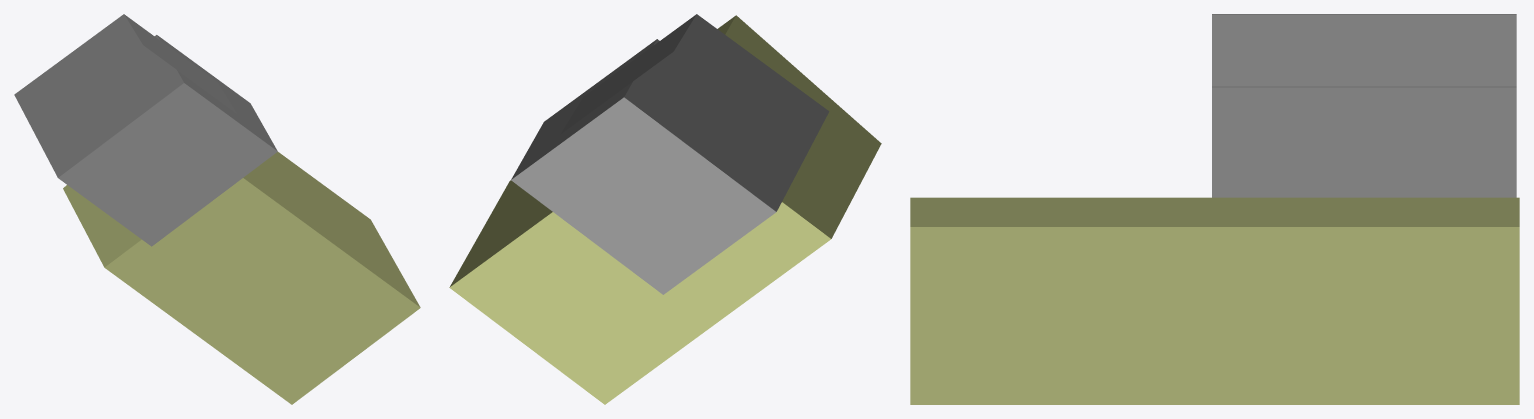
The picture shows the model from 3 angles, left to right: view 1: azimuth 30°, elevation 25°; view 2: azimuth 150°, elevation 25°; view 3: azimuth 270°, elevation 25°; orthographic projection. The views are drawn at different scales.
Visible parts, largest first — view 1: 0_1_1_3_2_2_3_1_0_0_3_2; view 2: 0_1_1_3_2_2_3_1_0_0_3_2; view 3: 0_1_1_3_2_2_3_1_0_0_3_2.
Boxes of the visible parts, x1,y1,x2,y2 form: 0_1_1_3_2_2_3_1_0_0_3_2: [14, 14, 420, 404]; 0_1_1_3_2_2_3_1_0_0_3_2: [449, 14, 881, 404]; 0_1_1_3_2_2_3_1_0_0_3_2: [910, 14, 1519, 404].
Size of the model in its own units: 4.06 by 4.41 by 6.
